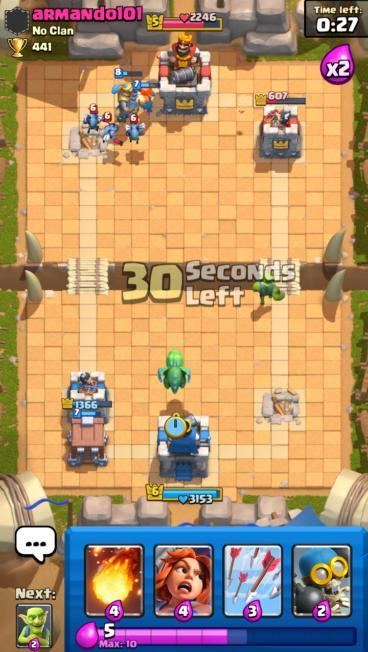ally_baby_dragon: (155, 346, 196, 397)
ally_brawler: (248, 275, 287, 309)
ally_goblin_cage: (62, 408, 114, 469)
ally_prince: (113, 67, 145, 126)
ally_valkyrie: (132, 77, 158, 119)
enemy_minion: (95, 111, 123, 147), (80, 100, 104, 136), (123, 115, 147, 145)
